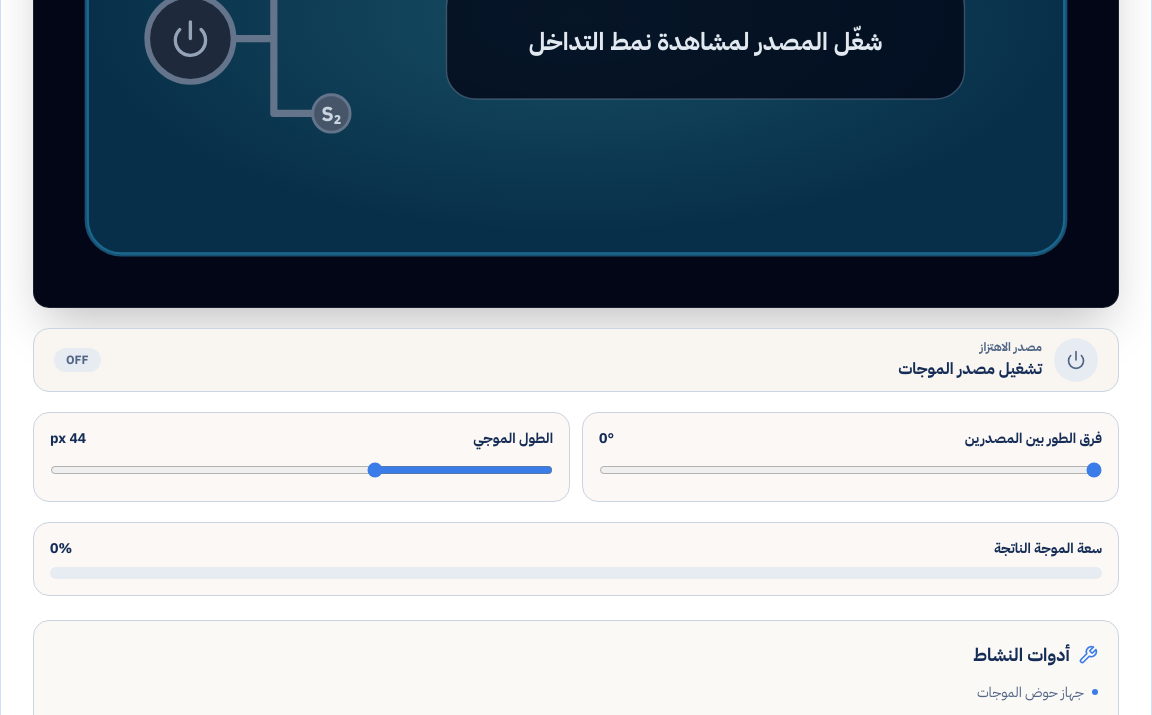
it: WaveInterferenceActivity › keeps the tank still until the student turns on the source, then generates wave patterns
The image size is (1152, 715).
(page scrolled)
Click the button "مصدر الاهتزاز تشغيل مصدر الموجات OFF" at x=1076, y=360, box [33, 328, 1119, 392]
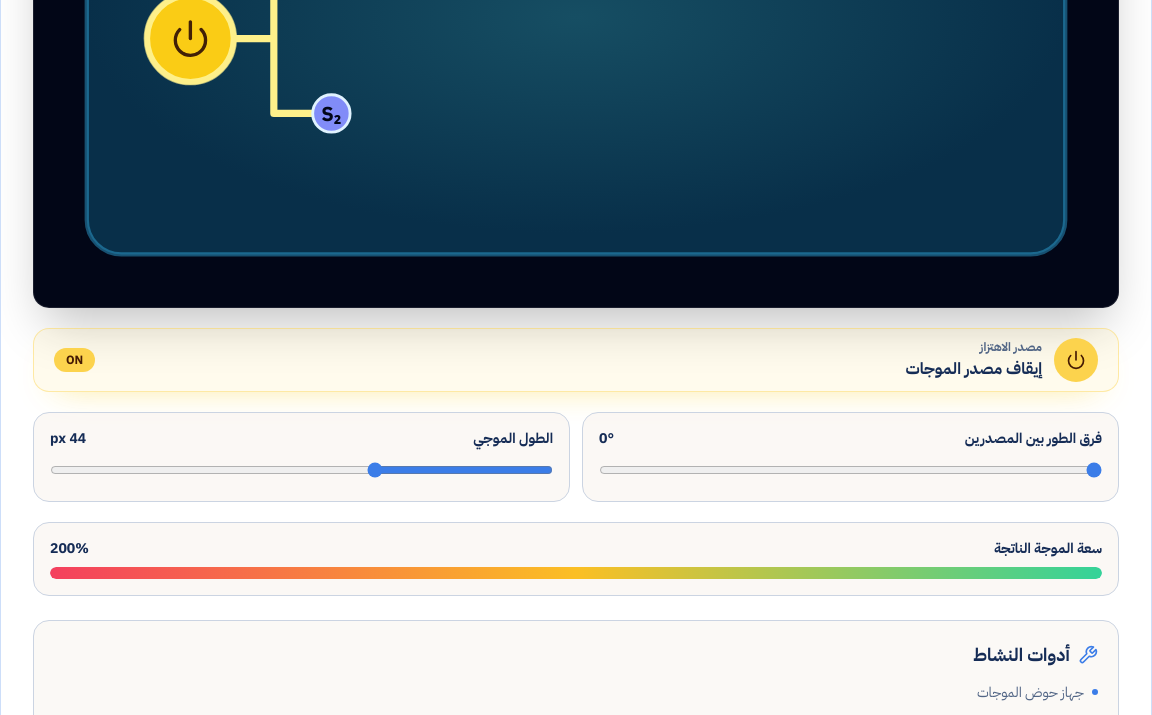
Now the button "مصدر الاهتزاز إيقاف مصدر الموجات ON" is pressed, box [33, 328, 1119, 392]
Set the slider named "فرق الطور بين المصدرين" to "180" at x=1094, y=470, box [599, 462, 1102, 478]
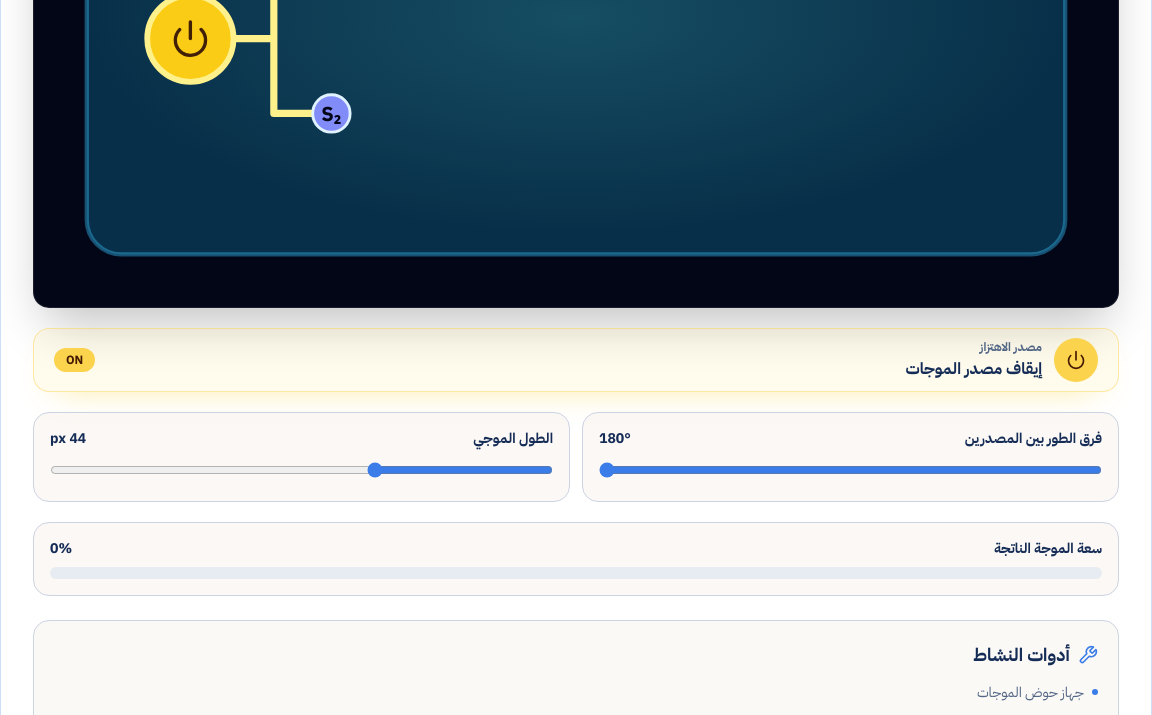
Now the text "180°" is shown, box [599, 429, 631, 449]
